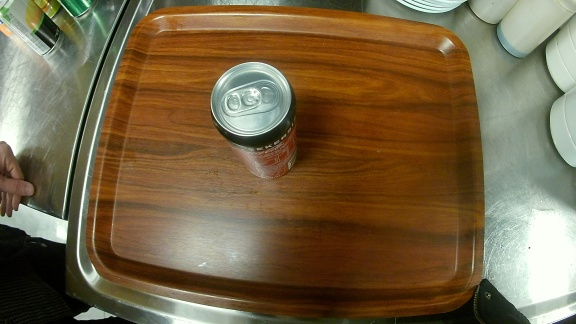kutukola: (208, 58, 303, 181)
